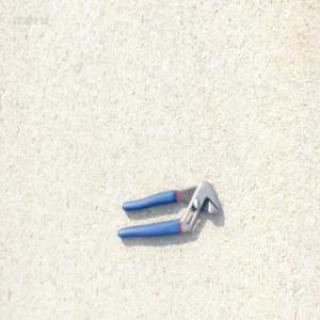Pliertrack_idkeyframe: (116, 177, 222, 237)
